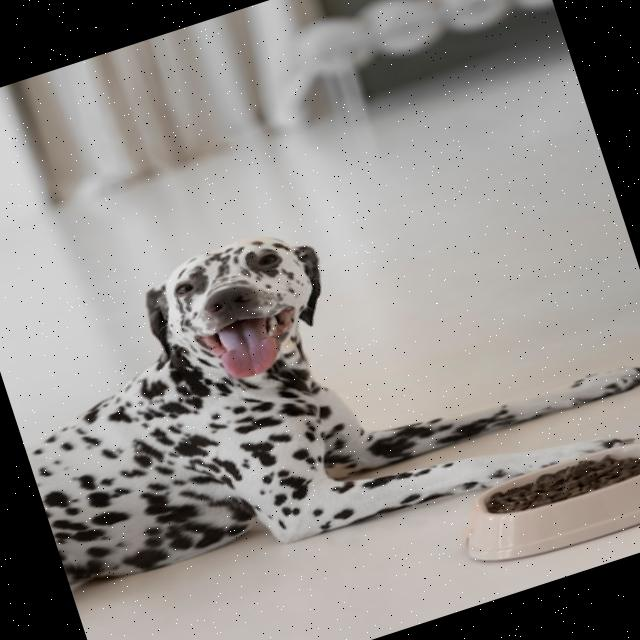Dog: (0, 128, 640, 620)
